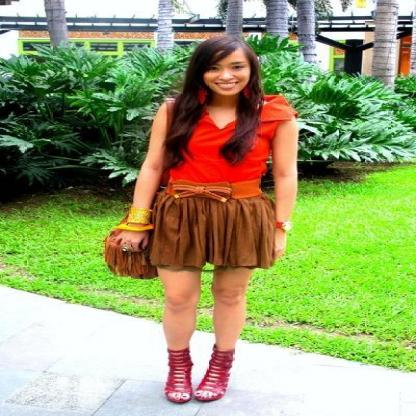bag: (102, 230, 158, 278)
shirt: (170, 94, 290, 184)
shoe: (162, 344, 233, 405)
skirt: (139, 191, 285, 274)
